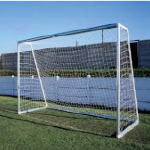goals: (16, 21, 140, 138)
